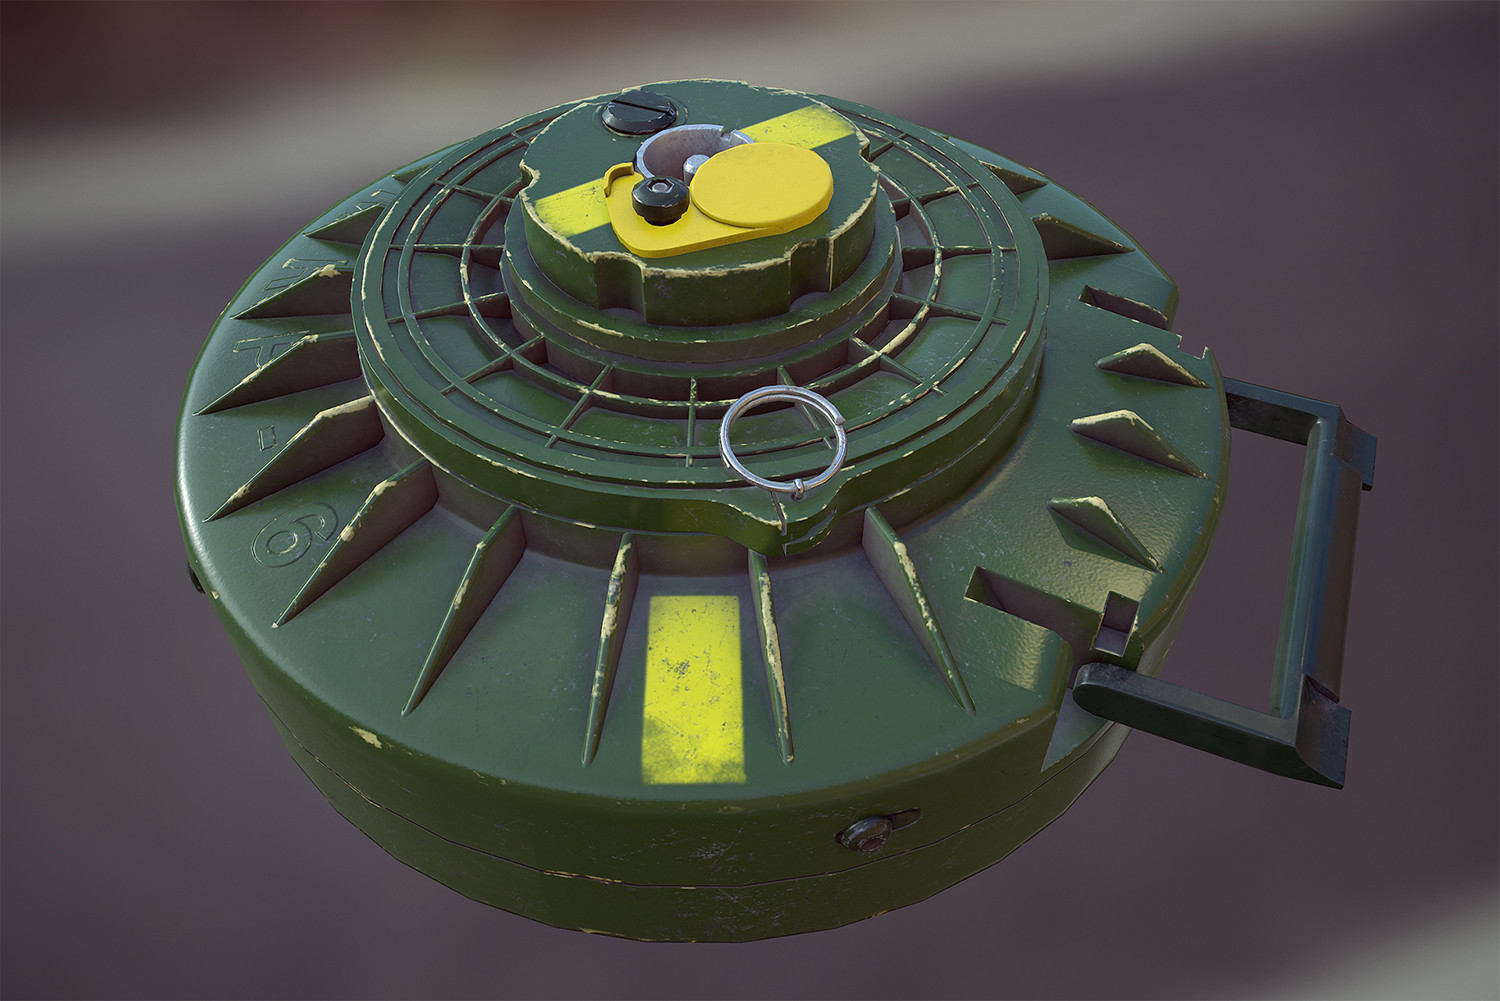car: (156, 17, 1412, 1001)
